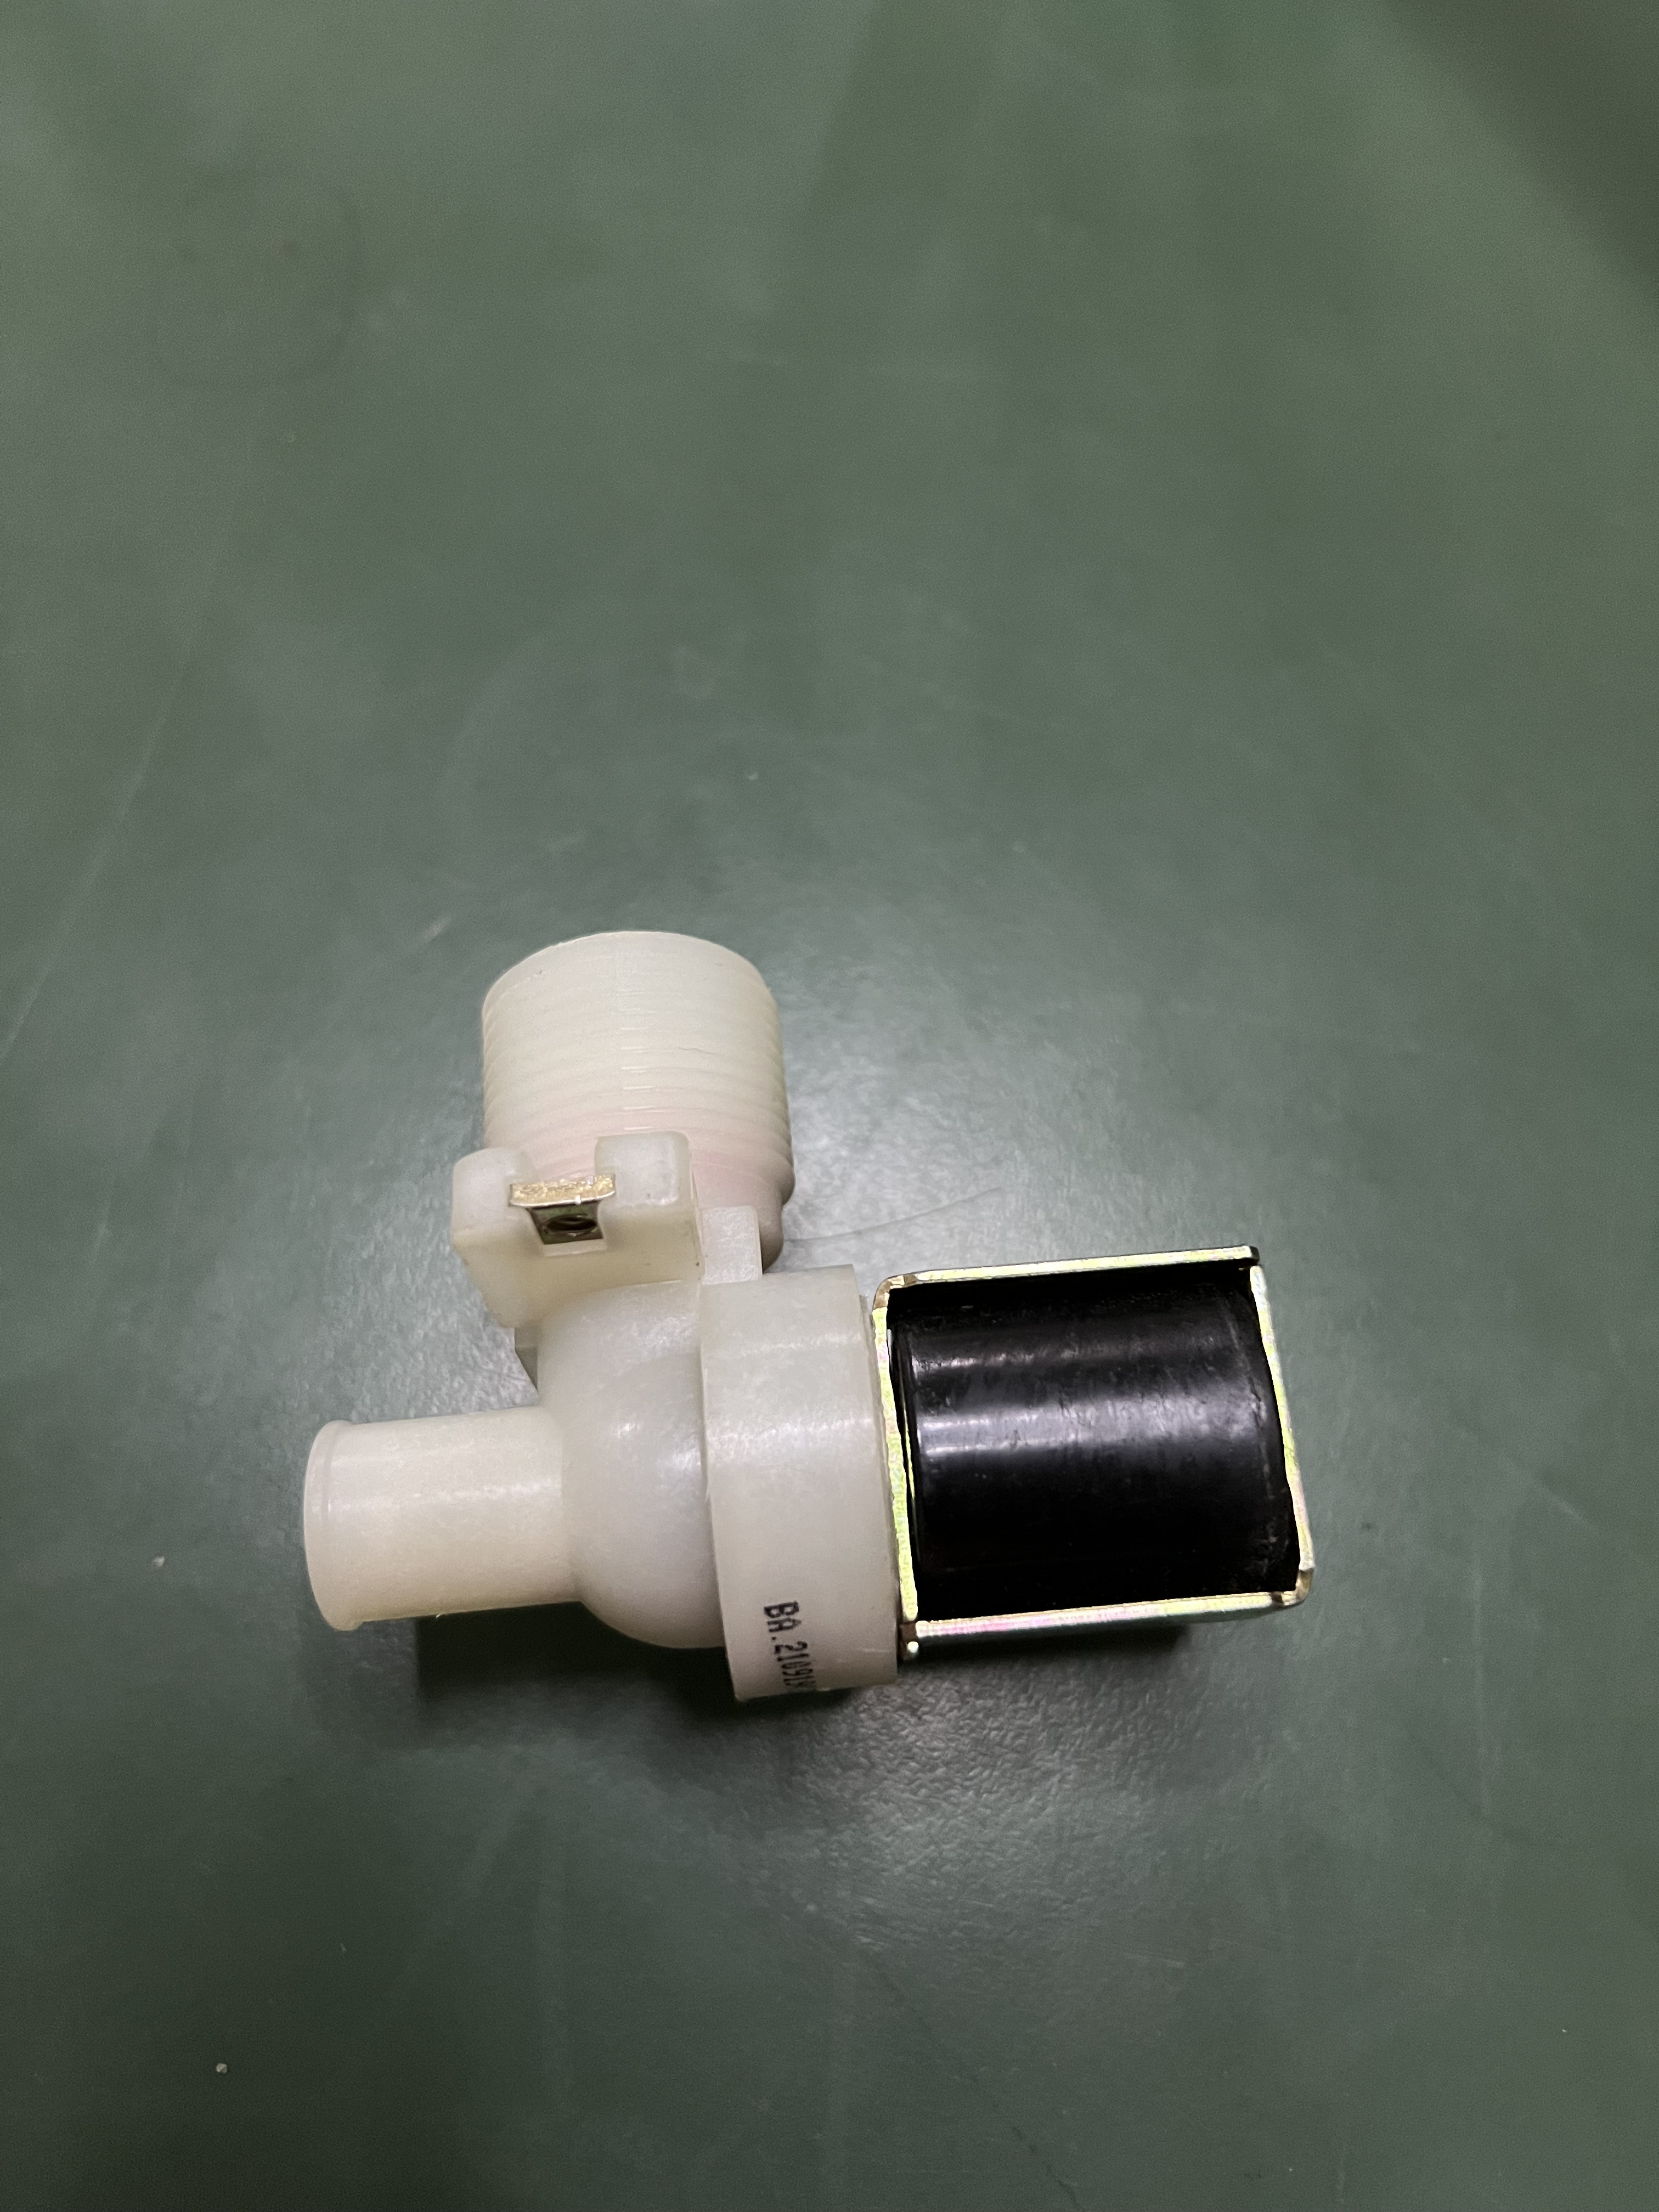godrej_inlet_valves: (246, 907, 1396, 1698)
